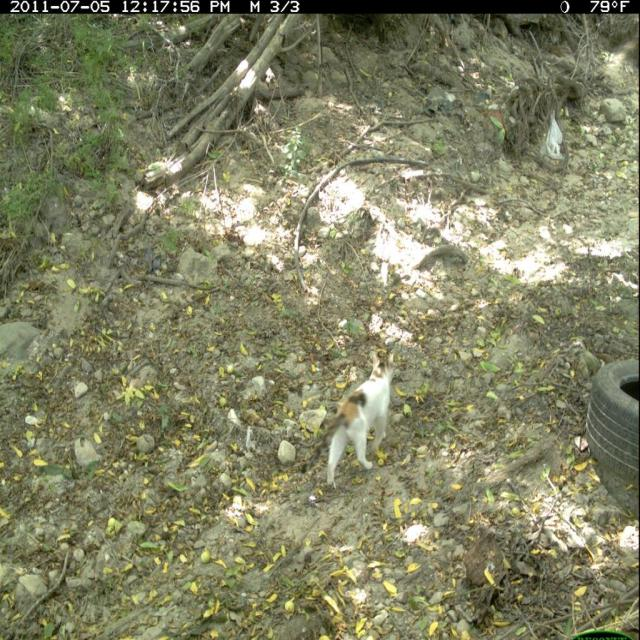cat: (297, 346, 400, 494)
